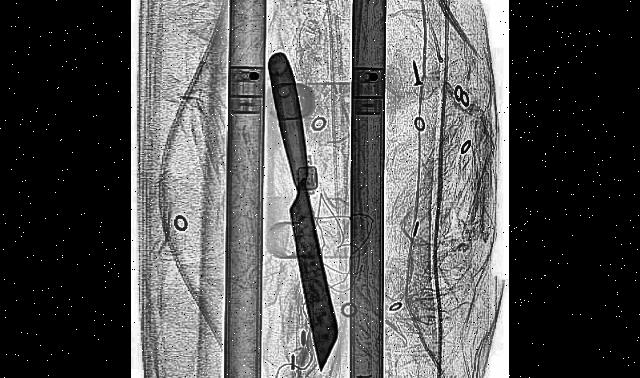Knife: (260, 46, 344, 372)
